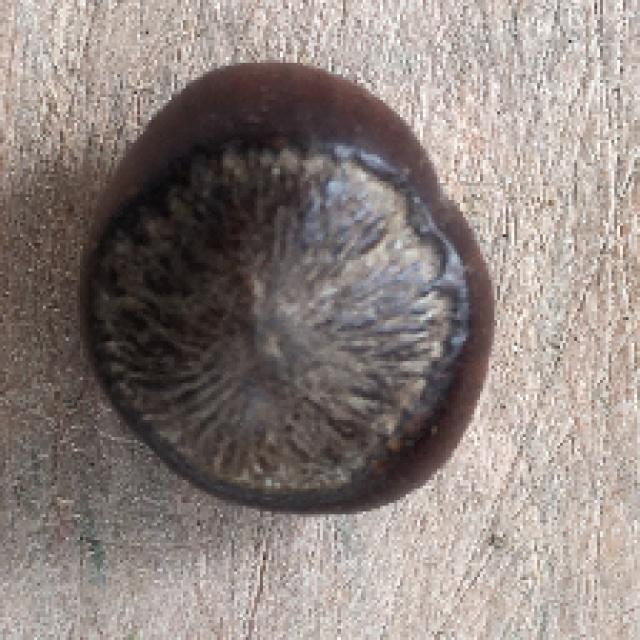damagedHazelnut: (77, 53, 498, 519)
